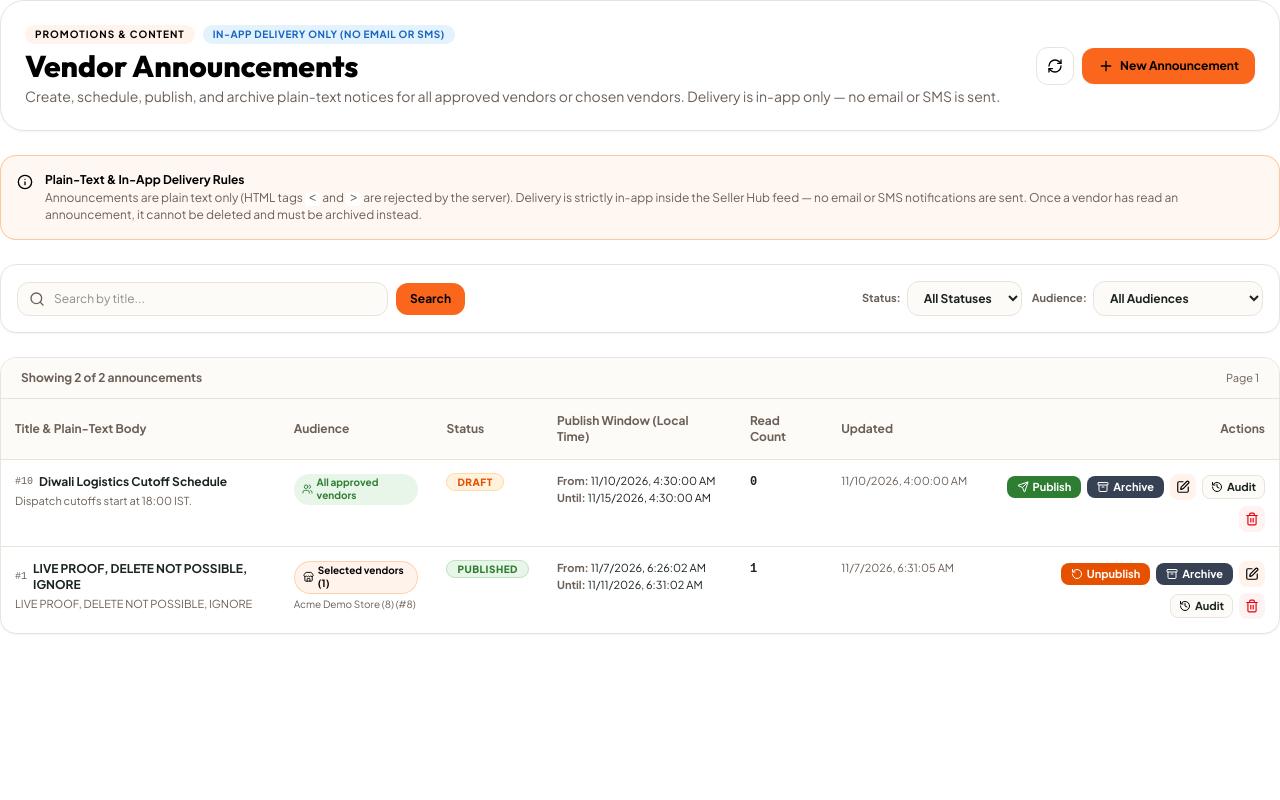
Test: AnnouncementsModule — Real Backend Wiring › 3. handles 409 Conflict when deleting a read announcement and archives instead when clicking "Archive instead"
Expected: the 1st text "LIVE PROOF, DELETE NOT POSSIBLE, IGNORE" is shown, [33, 561, 266, 593]
Click Delete on announcement #1 (which has read_count: 1)
What coordinates should you click on to do the following:
click the button with test id "delete-announcement-1"
I would click on:
 (1252, 606)
Its box is [1239, 593, 1265, 619].
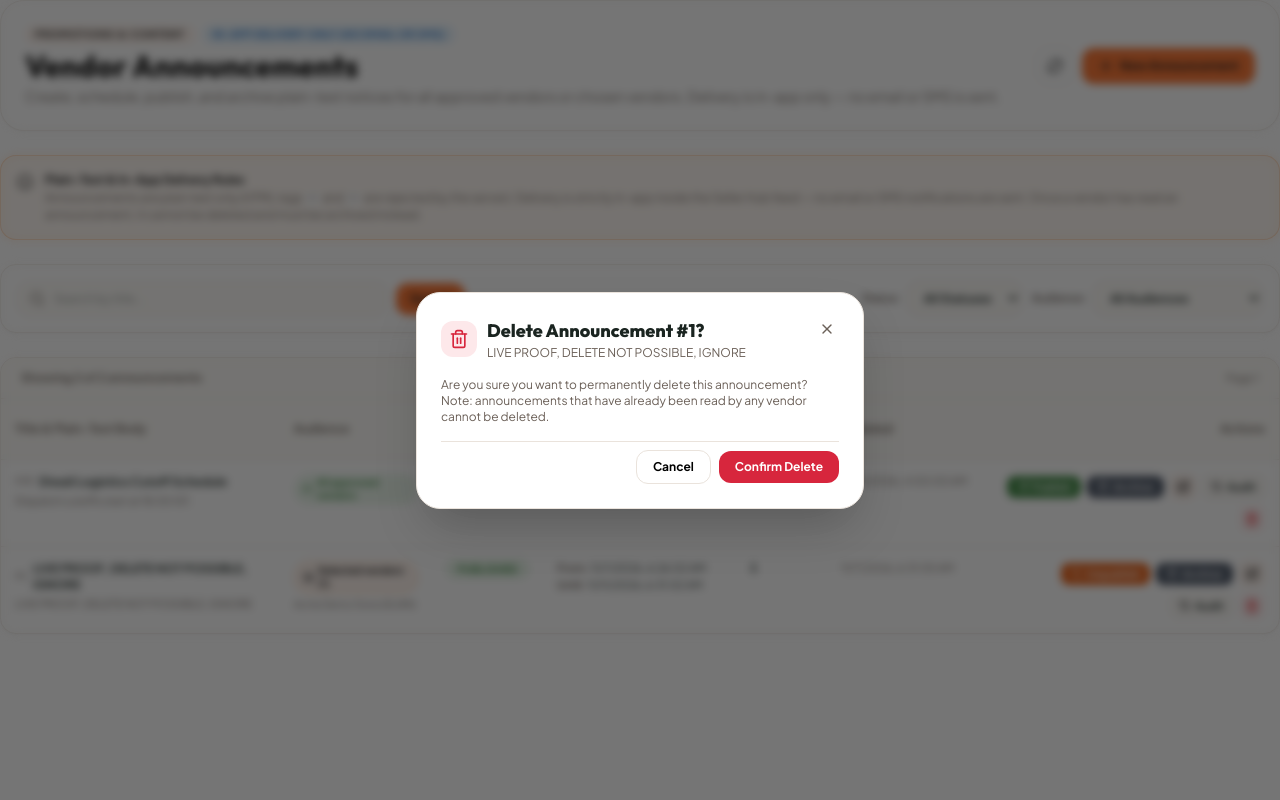
Expected: the element with test id "delete-confirm-modal" is shown
What coordinates should you click on to do the following:
click the button with test id "confirm-delete-btn"
I would click on:
 (779, 466)
Its box is [719, 450, 839, 482].
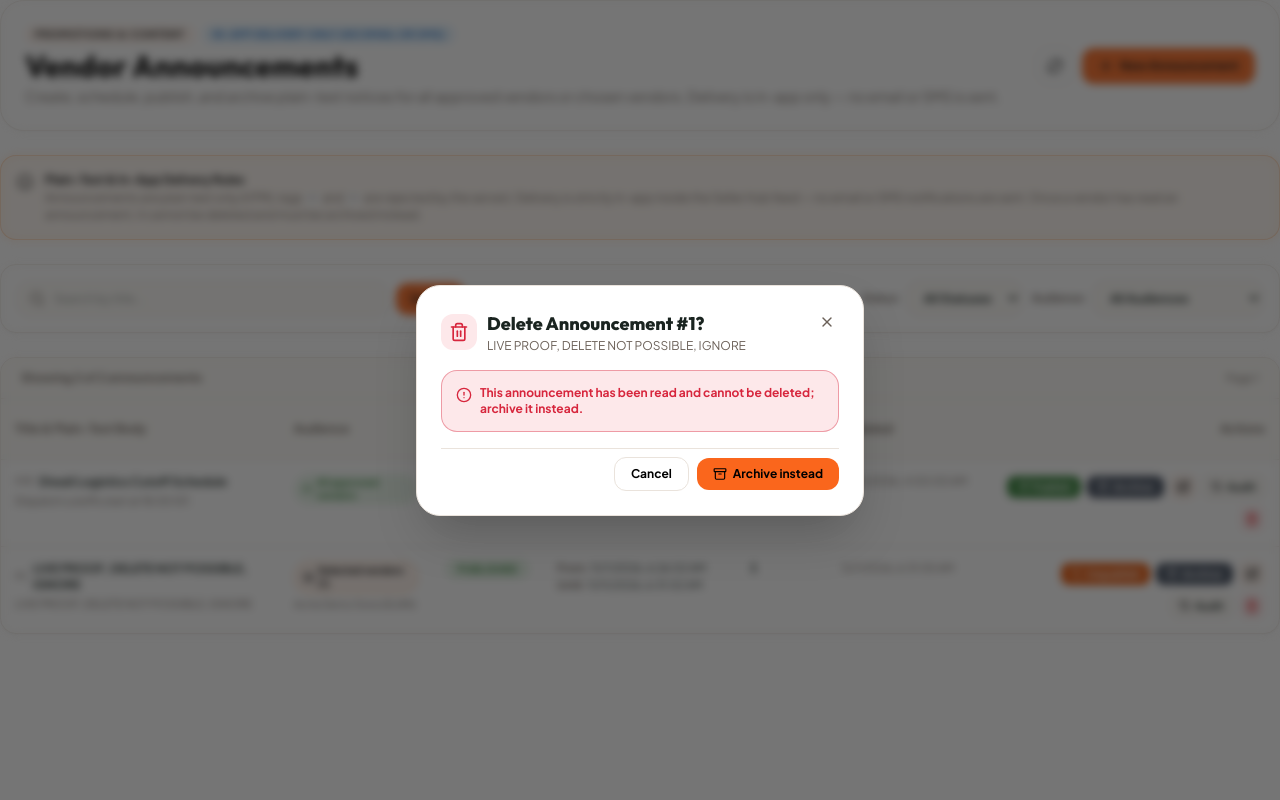
Expected: the message with test id "delete-conflict-message" reads "This announcement has been read and cannot be deleted; archive it instead.", [480, 384, 815, 416]
Expected: the button with test id "archive-instead-btn" is shown
What coordinates should you click on to do the following:
click the button with test id "archive-instead-btn"
I would click on:
 (768, 474)
Its box is [697, 458, 839, 490].
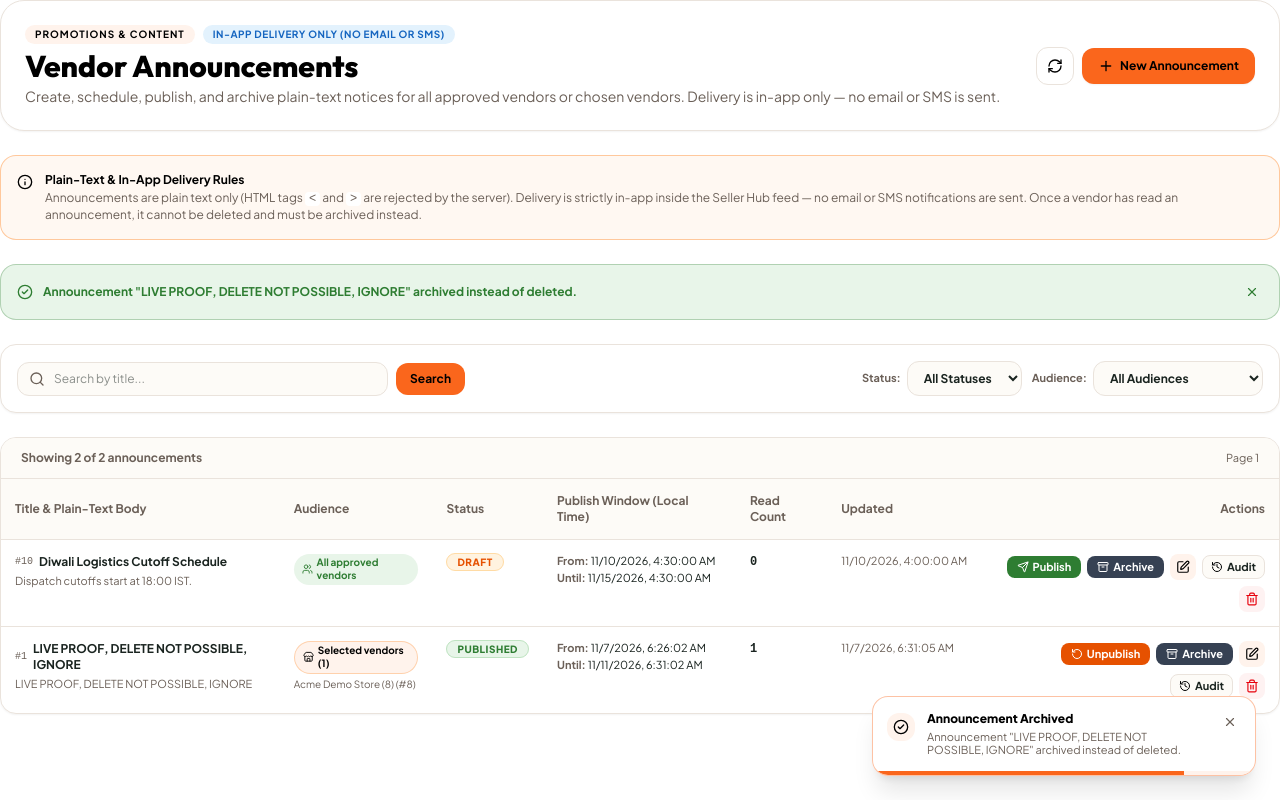
Expected: the element with test id "delete-confirm-modal" is gone
